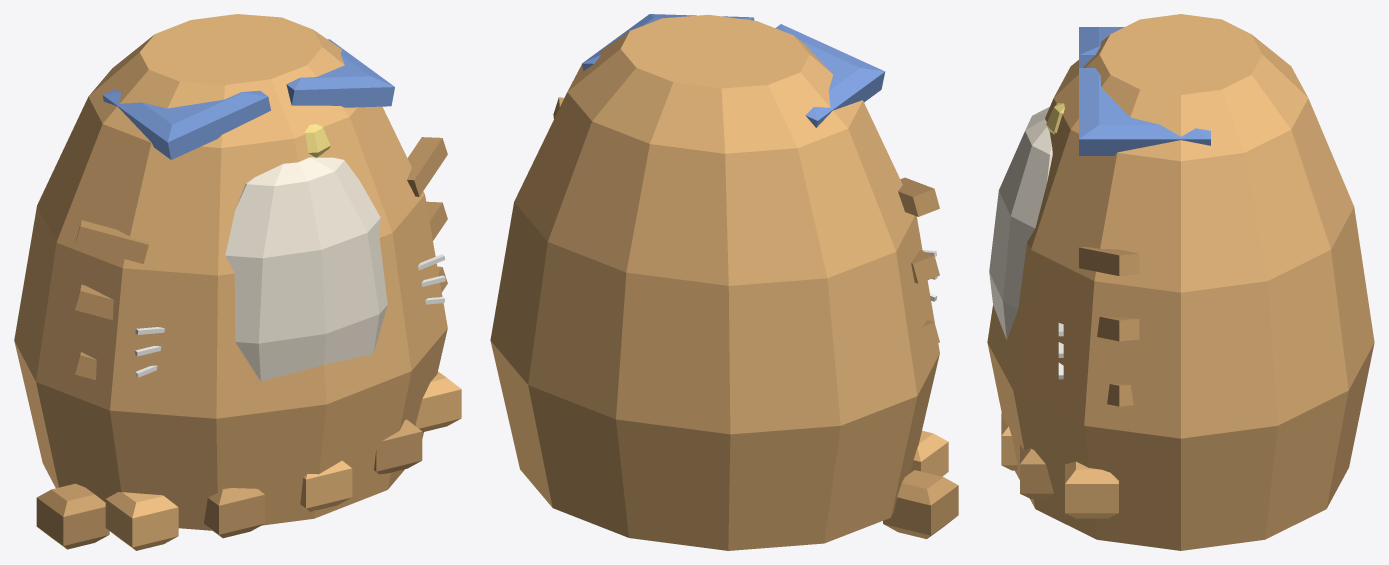
File: housecat.glb
3 renders of one model, left to right at view 1: azimuth 30°, elevation 25°; view 2: azimuth 150°, elevation 25°; view 3: azimuth 270°, elevation 25°, orthographic. The views are drawn at different scales.
Visible parts, largest first — view 1: Torso, PauldronL, PauldronR, Head; view 2: Torso, PauldronL, PauldronR; view 3: Torso, PauldronR, PauldronL.
Part boxes in pixels (x1,y1,x2,y2): Torso: [14, 14, 461, 550]; PauldronL: [102, 89, 270, 159]; PauldronR: [286, 39, 394, 157]; Head: [135, 254, 445, 377]; Torso: [490, 14, 958, 550]; PauldronL: [775, 24, 885, 127]; PauldronR: [582, 14, 754, 70]; Torso: [987, 14, 1374, 550]; PauldronR: [1046, 68, 1210, 155]; PauldronL: [1079, 27, 1124, 67].
Size of the model in its own units: 0.7719 by 0.805 by 0.646.
